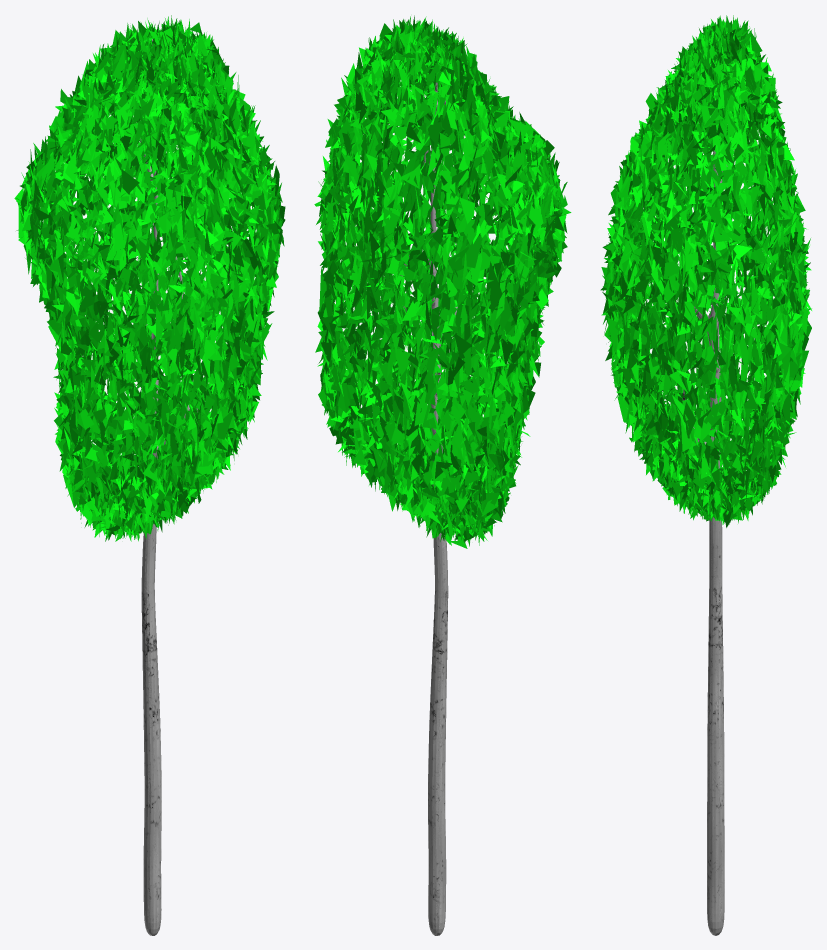
The model's file is Leaves11.fbx.
The picture shows the model from 3 angles, left to right: view 1: azimuth 30°, elevation 25°; view 2: azimuth 150°, elevation 25°; view 3: azimuth 270°, elevation 25°; orthographic projection.
Parts seen in each view (by area): view 1: Leaves11; view 2: Leaves11; view 3: Leaves11.
Part boxes in pixels (x1,y1,x2,y2): Leaves11: (14,15,285,935); Leaves11: (314,15,571,935); Leaves11: (600,15,811,935).
Size of the model in its own units: 739 by 2626 by 550.
Materials: 2 (1 with a texture image).
